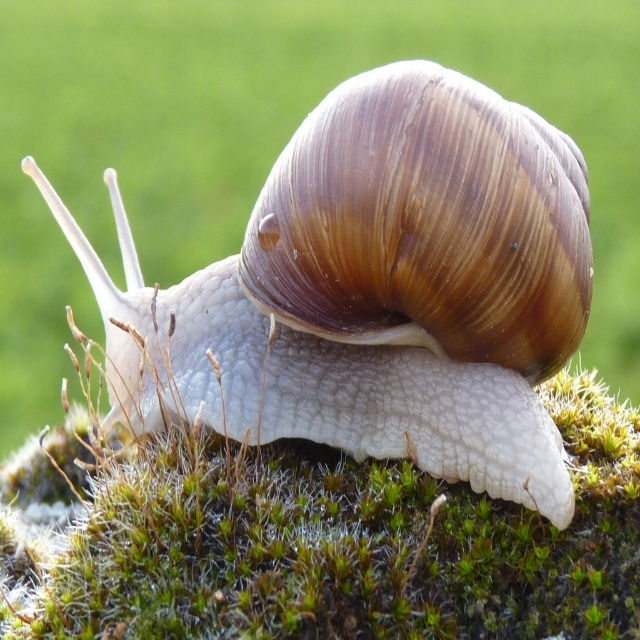Snail: (19, 49, 595, 534)
